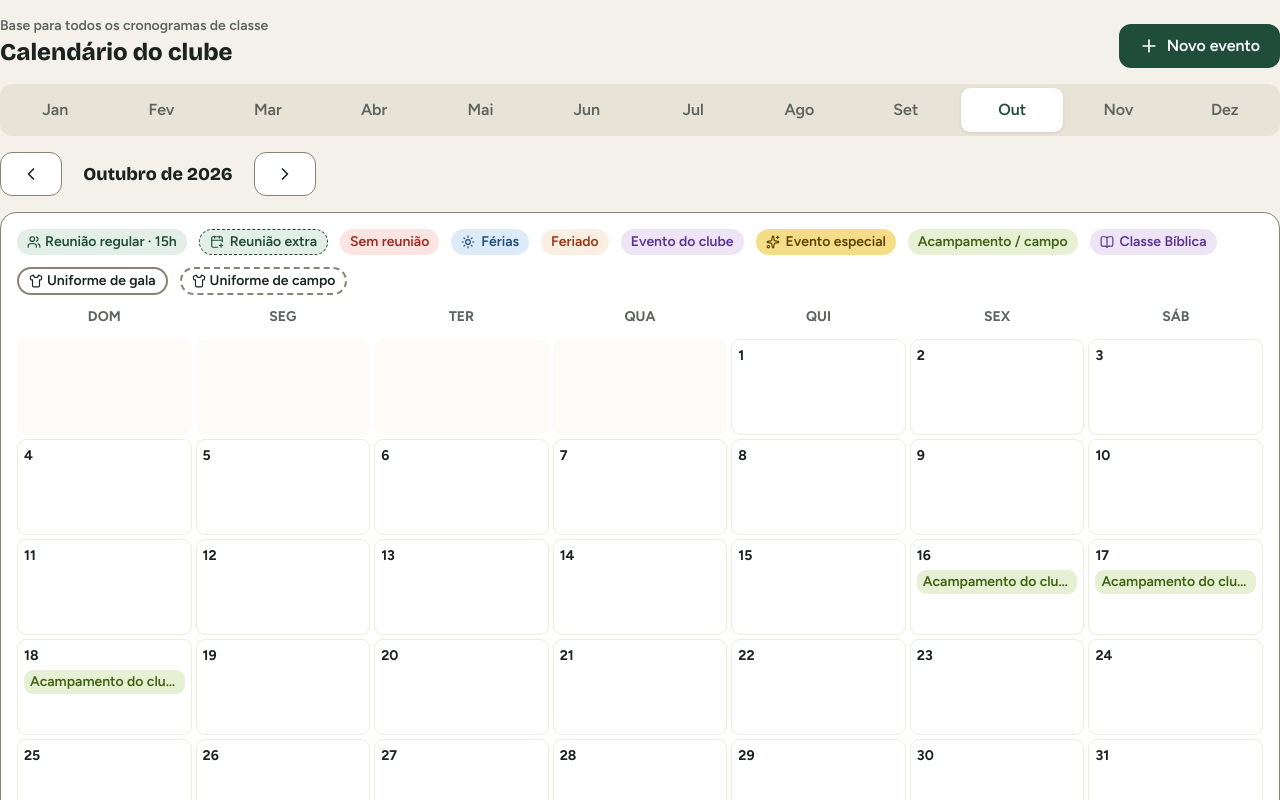
Test: A6 · grade › trocar de mês pela faixa mostra os eventos daquele mês
This screenshot has width=1280, height=800.
Click the tab "Nov" at x=1118, y=110, box left=1067, top=88, right=1170, bottom=132
(page scrolled)
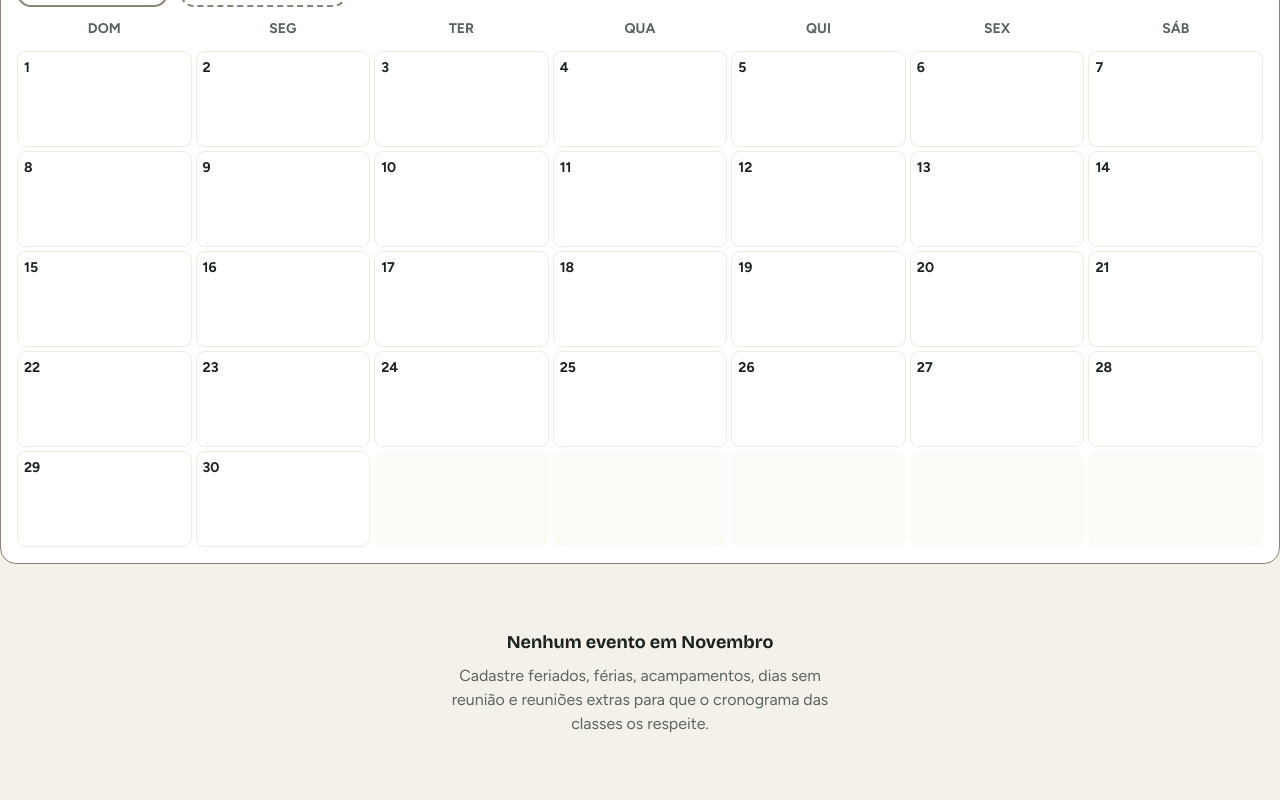
Expected: the heading "Nenhum evento em Novembro" is shown, left=507, top=628, right=773, bottom=656
